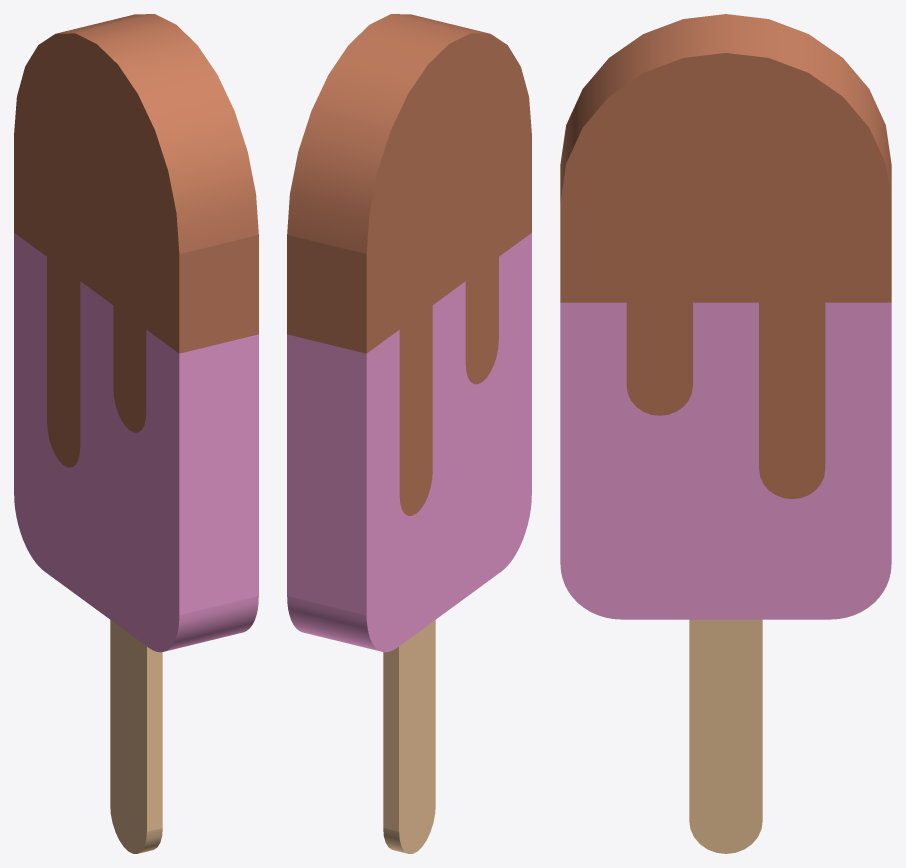
Rendered from popsicleChocolate.obj.
The picture shows the model from 3 angles, left to right: view 1: azimuth 30°, elevation 25°; view 2: azimuth 150°, elevation 25°; view 3: azimuth 270°, elevation 25°; orthographic projection.
Parts seen in each view (by area): view 1: popsicleChocolate; view 2: popsicleChocolate; view 3: popsicleChocolate.
Boxes of the visible parts, box(x1,y1,x2,y2) form: popsicleChocolate: box(14, 14, 258, 853); popsicleChocolate: box(287, 14, 531, 853); popsicleChocolate: box(560, 14, 891, 853).
Size of the model in its own units: 0.05 by 0.49 by 0.18.
